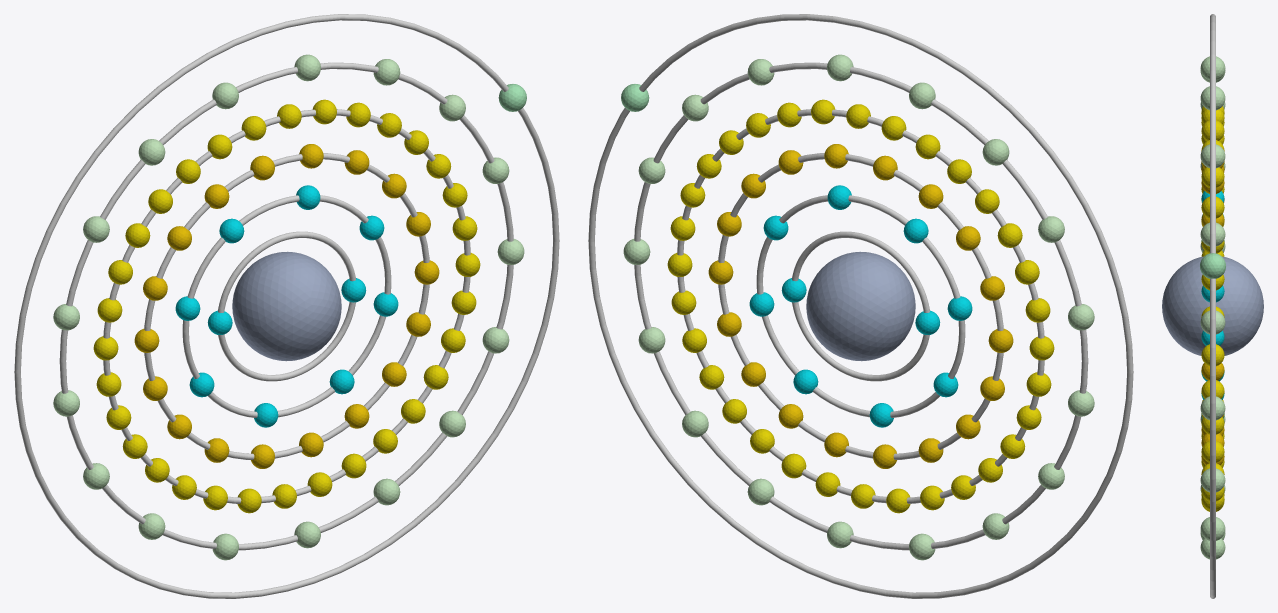
3 renders of one model, left to right at view 1: azimuth 30°, elevation 25°; view 2: azimuth 150°, elevation 25°; view 3: azimuth 270°, elevation 25°, orthographic. The views are drawn at different scales.
Parts seen in each view (by area): view 1: world; view 2: world; view 3: world.
Part boxes in pixels (x1=…): world: x1=14, y1=14, x2=559, y2=598; world: x1=588, y1=14, x2=1133, y2=598; world: x1=1162, y1=14, x2=1263, y2=598.
Size of the model in its own units: 2.53 by 2.53 by 0.44.
